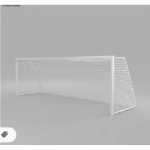goals: (15, 55, 137, 115)
